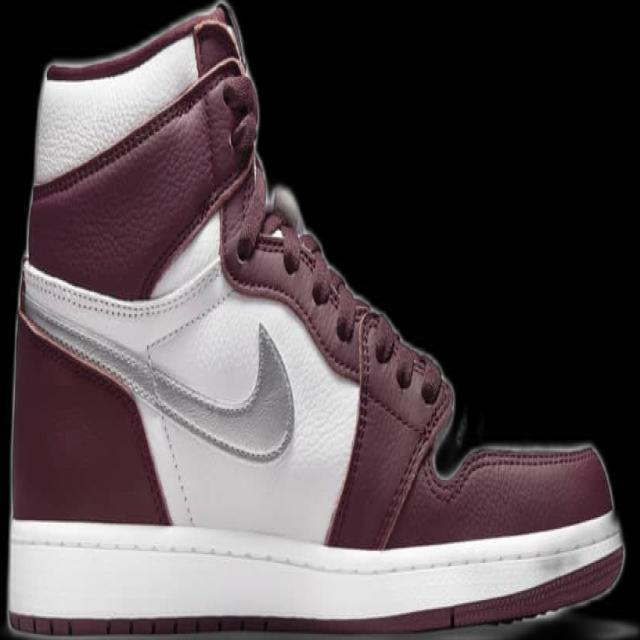J1_InsoleChar: (3, 0, 628, 639)
J1_StitchPattern: (18, 193, 448, 460), (5, 513, 626, 633), (17, 277, 296, 463), (228, 195, 446, 409), (33, 53, 246, 197), (4, 609, 627, 639), (452, 528, 626, 630), (18, 255, 225, 321), (8, 612, 291, 639), (456, 441, 599, 477)
